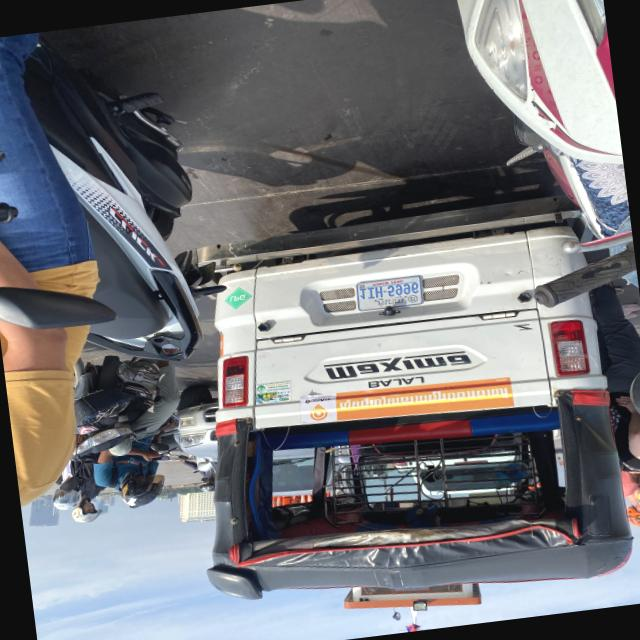503: (356, 287, 368, 300)
796: (386, 282, 419, 297)
Yolov11_80vkh: (336, 379, 512, 412), (374, 295, 405, 308), (409, 295, 416, 301)
